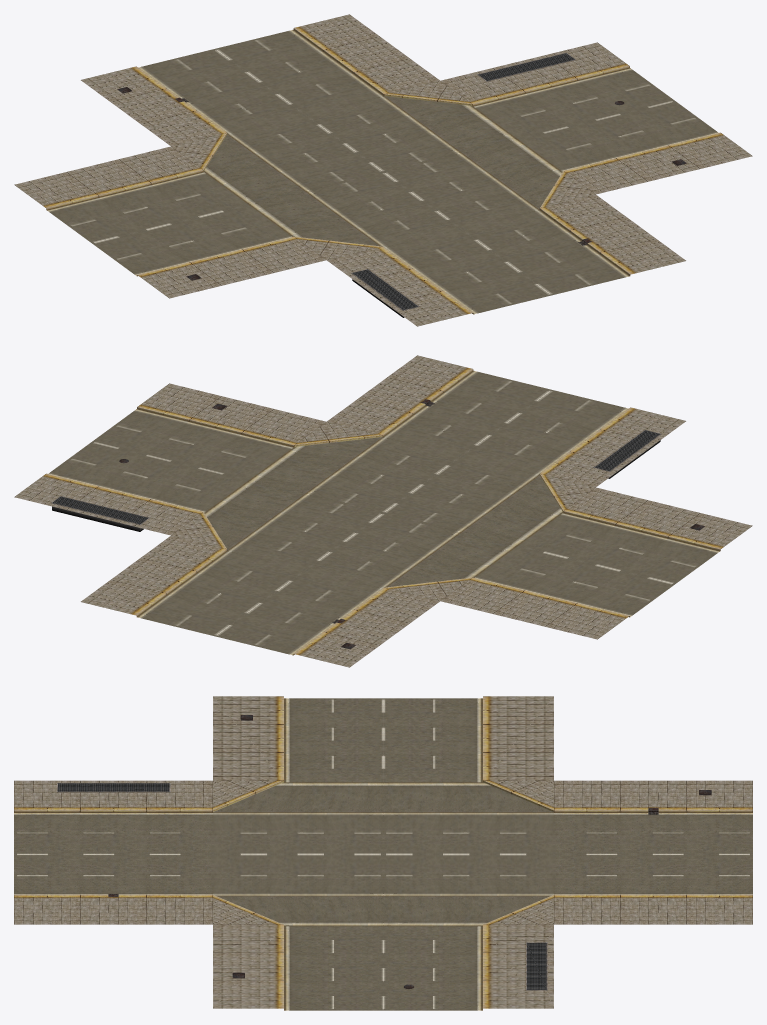
File: Road2_Part_06_B.fbx
3 renders of one model, top to bottom at view 1: azimuth 30°, elevation 25°; view 2: azimuth 150°, elevation 25°; view 3: azimuth 270°, elevation 25°, orthographic. The views are drawn at different scales.
Visible parts, largest first — view 1: Model_Road2_Part_06_B; view 2: Model_Road2_Part_06_B; view 3: Model_Road2_Part_06_B.
Part boxes in pixels (x1,y1,x2,y2): Model_Road2_Part_06_B: (14,14,752,326); Model_Road2_Part_06_B: (14,355,752,667); Model_Road2_Part_06_B: (14,696,752,1010).
Bounding box in the file's own units: 5200 × 65.51 × 5200.
